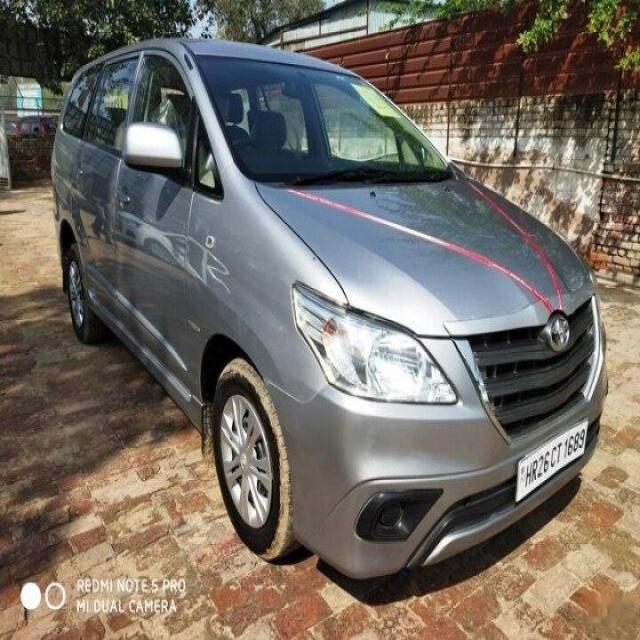light_vehicle: (49, 37, 608, 583)
